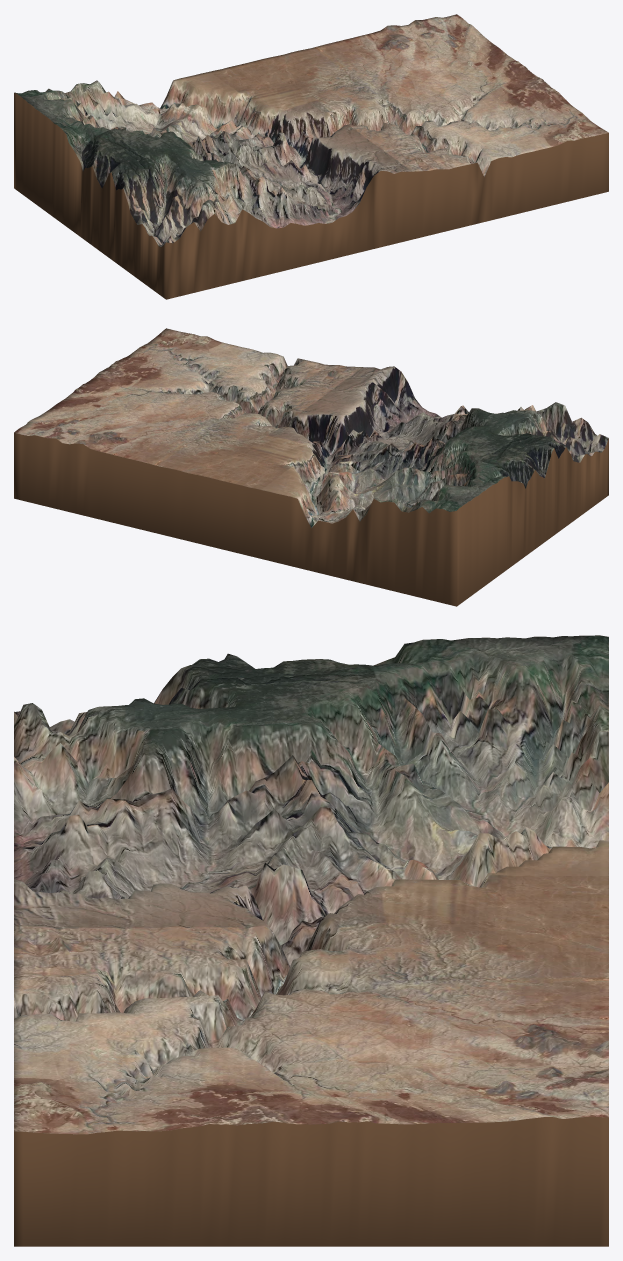
Rendered from sv_canyondiorama.glb.
The picture shows the model from 3 angles, top to bottom: view 1: azimuth 30°, elevation 25°; view 2: azimuth 150°, elevation 25°; view 3: azimuth 270°, elevation 25°; orthographic projection. The views are drawn at different scales.
Visible parts, largest first — view 1: sv_canyondiorama; view 2: sv_canyondiorama; view 3: sv_canyondiorama.
Part boxes in pixels (x1,y1,x2,y2): sv_canyondiorama: (14, 14, 608, 299); sv_canyondiorama: (14, 328, 608, 606); sv_canyondiorama: (14, 635, 608, 1246).
Size of the model in its own units: 0.95 by 0.1981 by 0.5655.
Materials: 2 (1 with a texture image).
